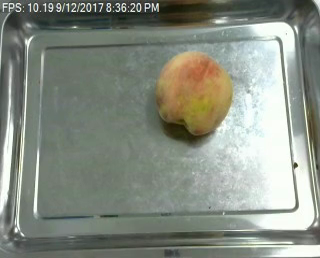Peach: (155, 50, 233, 135)
